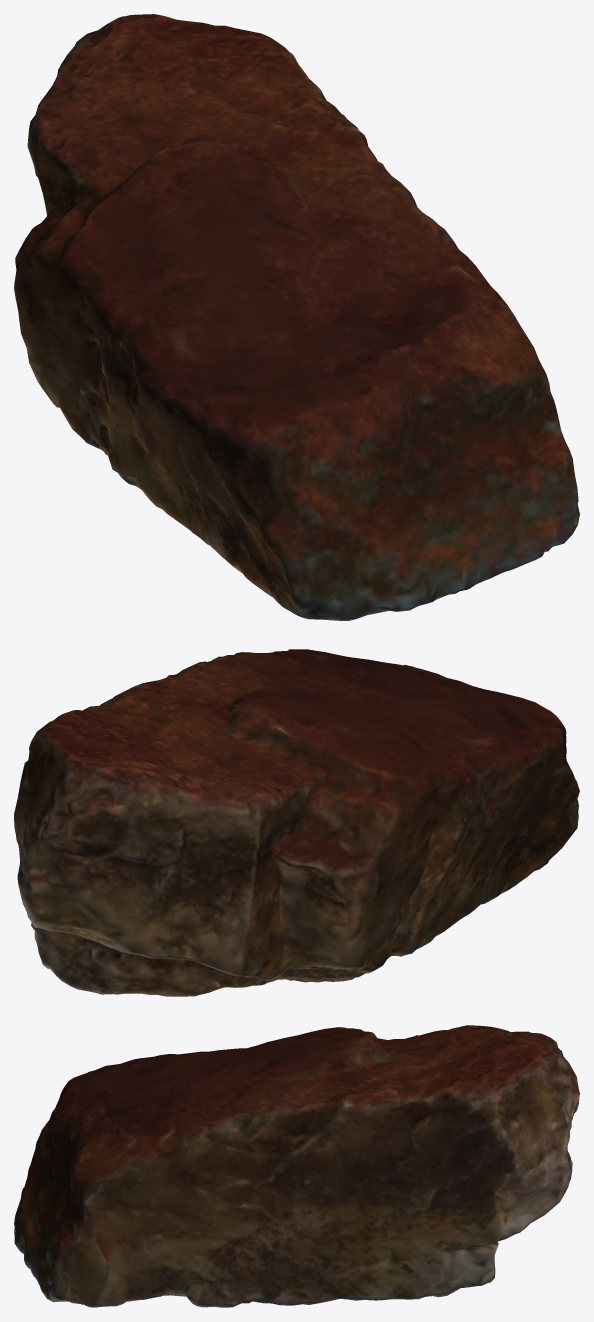
The model's file is rock_07.glb.
3 renders of one model, top to bottom at view 1: azimuth 30°, elevation 25°; view 2: azimuth 150°, elevation 25°; view 3: azimuth 270°, elevation 25°, orthographic. The views are drawn at different scales.
Parts seen in each view (by area): view 1: rock_07; view 2: rock_07; view 3: rock_07.
Part boxes in pixels (x1=…): rock_07: x1=14, y1=14, x2=579, y2=620; rock_07: x1=14, y1=649, x2=579, y2=996; rock_07: x1=14, y1=1025, x2=579, y2=1307.
Size of the model in its own units: 0.1689 by 0.1437 by 0.3203.
Materials: 1 (1 with a texture image).
